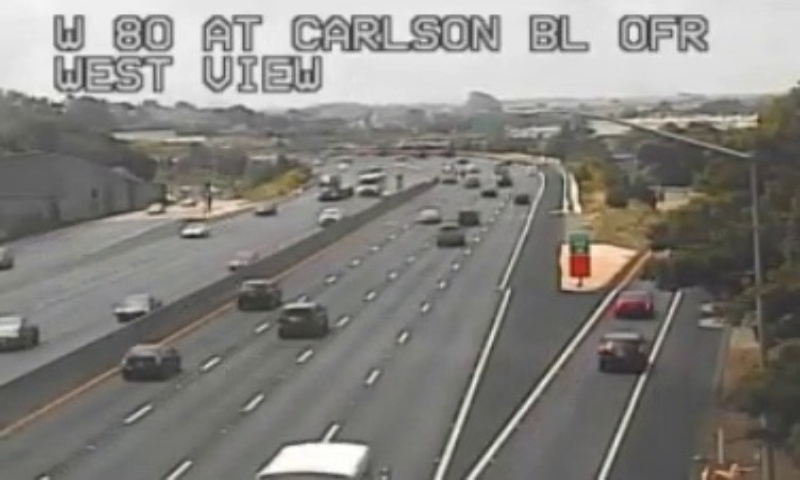car: (597, 332, 646, 373), (121, 342, 176, 378), (276, 303, 323, 337), (236, 279, 278, 308), (612, 290, 648, 317)
